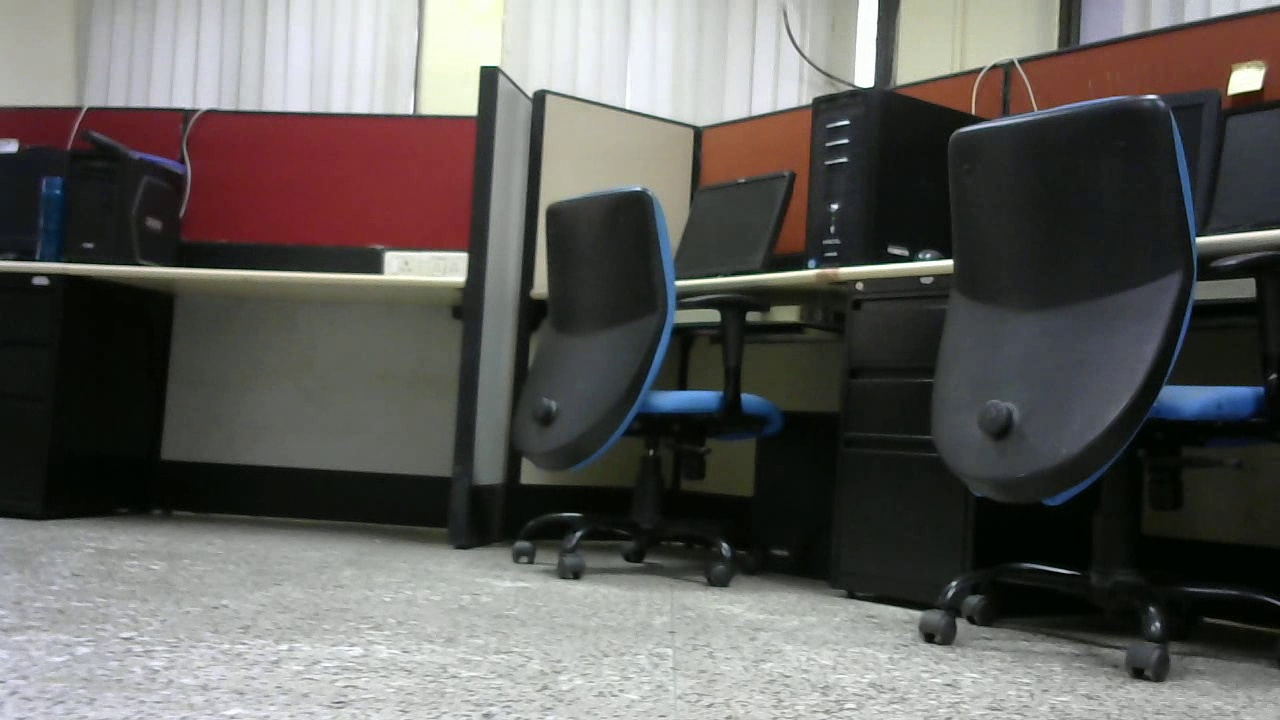chair: (921, 91, 1280, 683), (502, 189, 795, 596)
